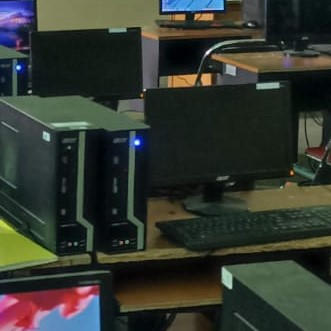monitor: (144, 80, 295, 189), (29, 27, 143, 101), (0, 270, 114, 329), (0, 0, 38, 96), (264, 0, 330, 45)
